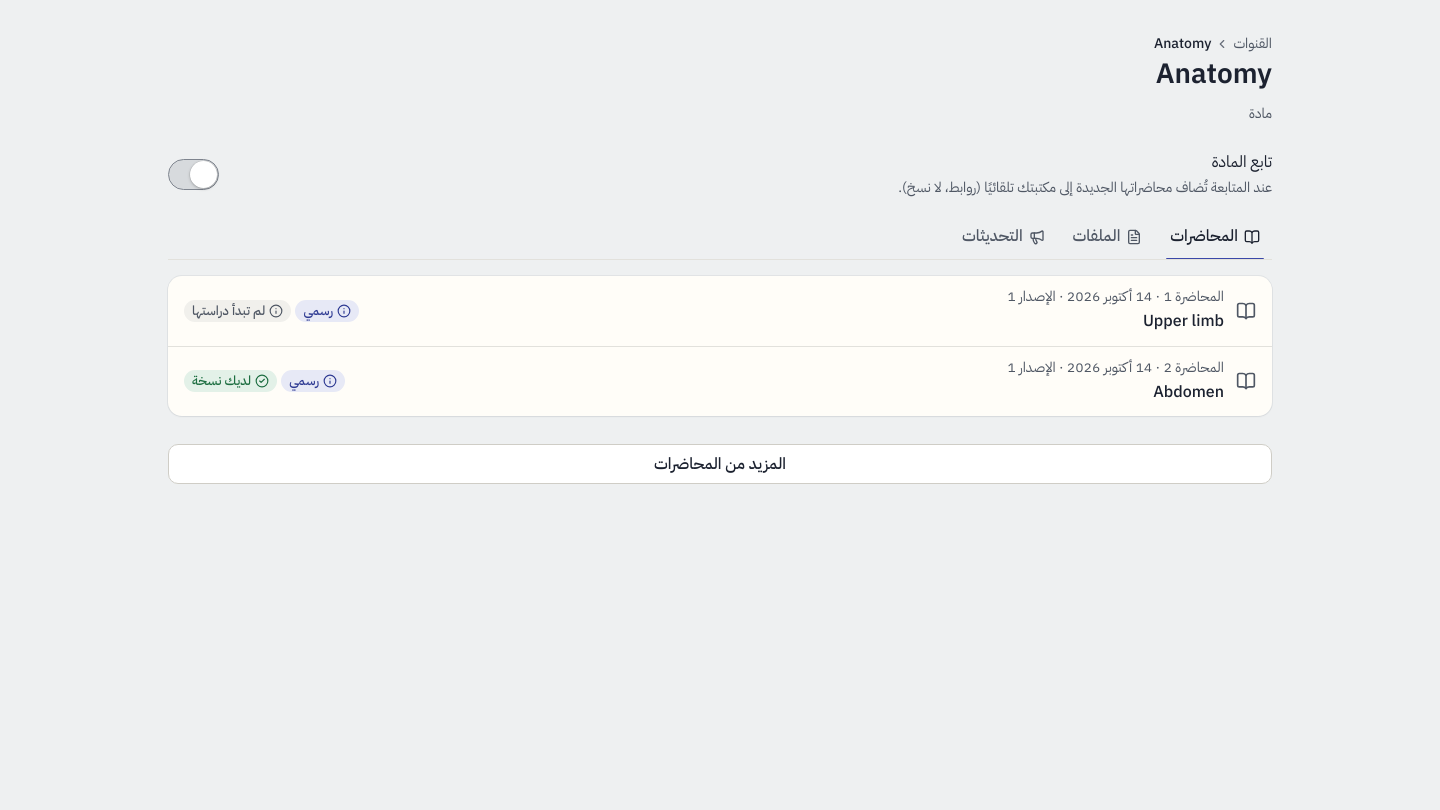
Test: R5 — «المزيد» / «الأقدم» act or say why › online, a failed «المزيد من المحاضرات» says why instead of doing nothing
The image size is (1440, 810).
Step 1. Click the button "المزيد من المحاضرات" → (720, 464), box [168,444,1272,484]
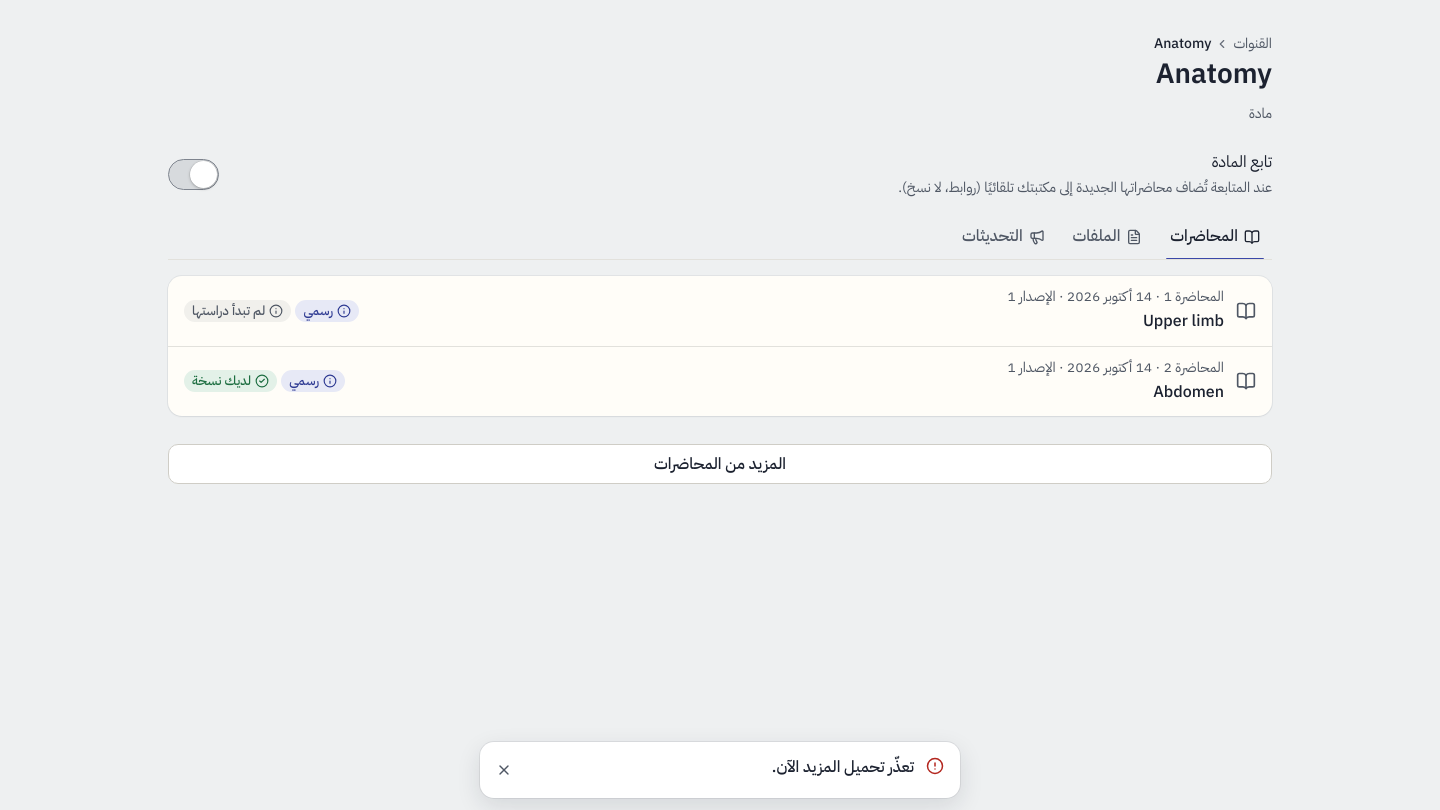
Check: the text "تعذّر تحميل المزيد الآن." is shown, box [772,755,914,779]
